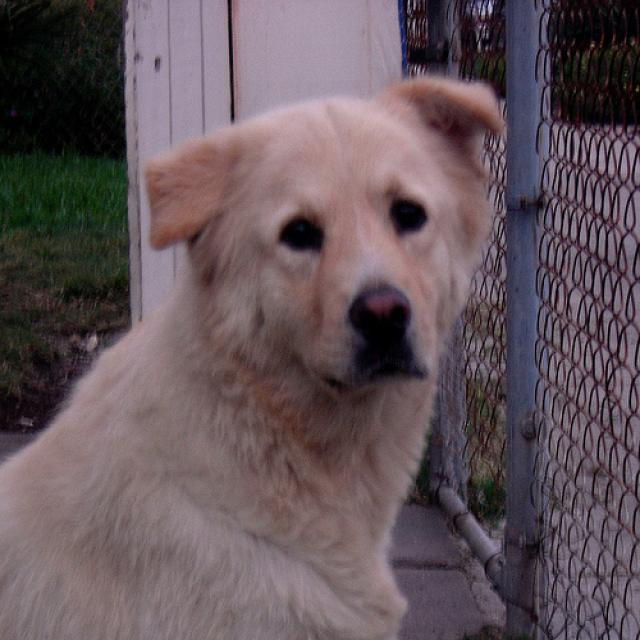dog-great_pyrenees: (1, 67, 511, 637)
